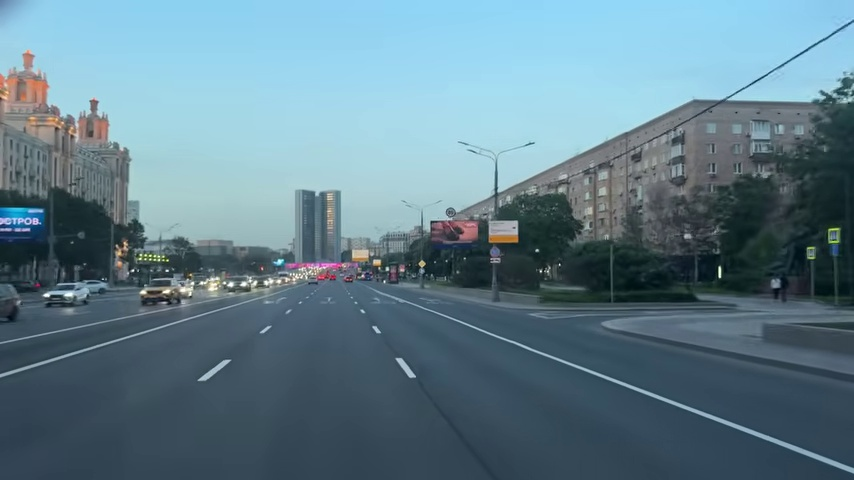apagada: (456, 139, 477, 157), (520, 136, 537, 151)
